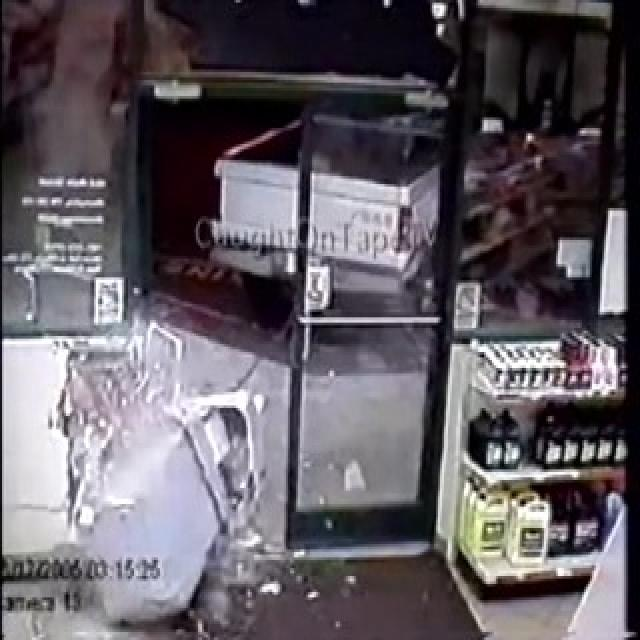burglary: (44, 325, 288, 631)
